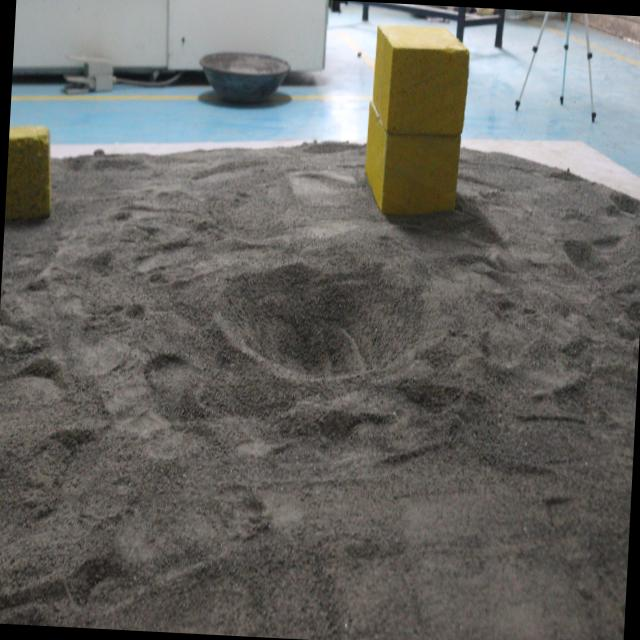box: (357, 16, 476, 230)
crater: (206, 243, 449, 398)
